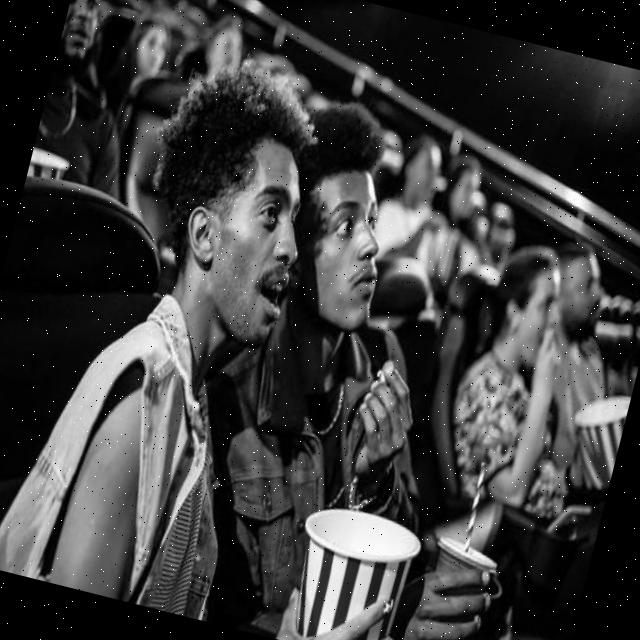Surprised: (197, 132, 329, 356), (296, 172, 405, 338)
